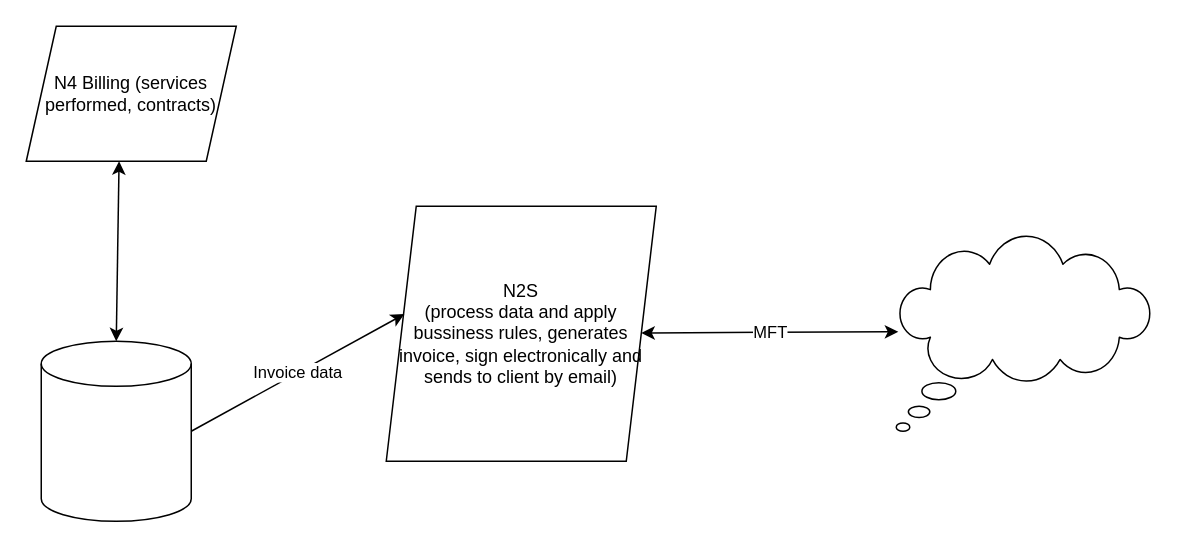
Some shapes in this 1178 by 548 pixel diagram are drawn without their labels. The shapes that lost their labels are listed below. From the top down, each one's centre as x and y in pixels, then its label:
At point (1023, 333): "Oracle Fusion".
At point (115, 430): "N4 Billing DB (Raw Invoice Data)".
